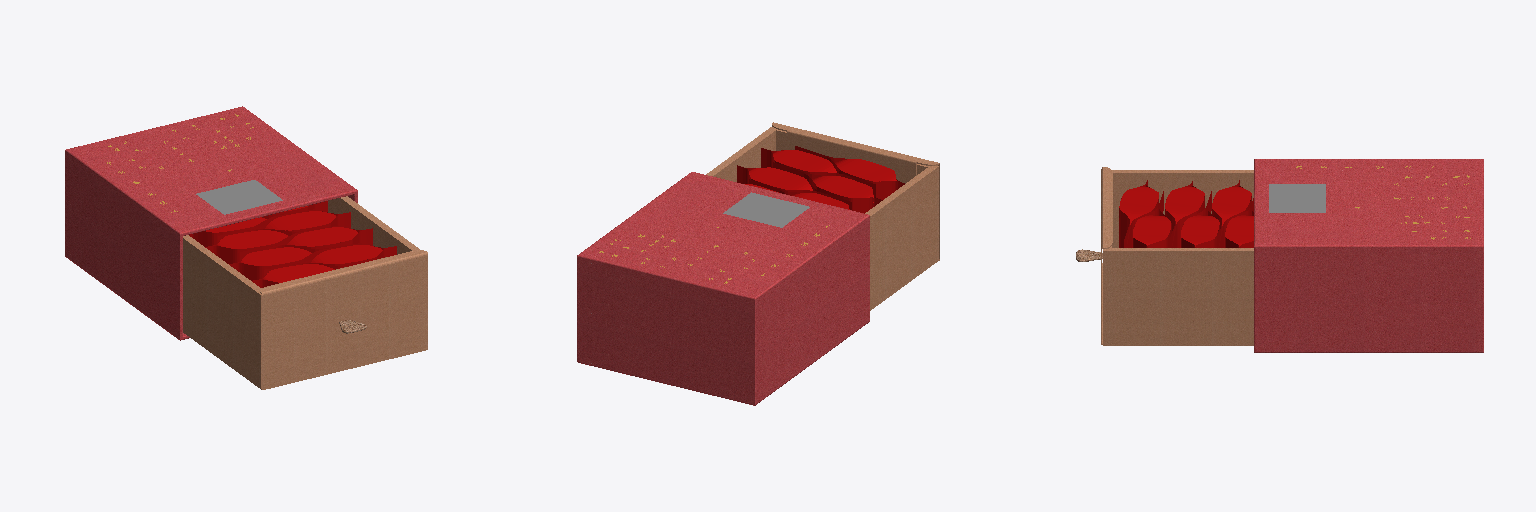
The picture shows the model from 3 angles: view 1: azimuth 30°, elevation 25°; view 2: azimuth 150°, elevation 25°; view 3: azimuth 270°, elevation 25°; orthographic projection.
Parts seen in each view (by area): view 1: DirectConnectNode_27_DC_Shell, Plane015, Rectangle003; view 2: DirectConnectNode_27_DC_Shell, Plane015, Rectangle003; view 3: DirectConnectNode_27_DC_Shell, Plane015, Rectangle003.
Boxes of the visible parts, x1=… form: DirectConnectNode_27_DC_Shell: x1=65, y1=106, x2=427, y2=389; Plane015: x1=149, y1=137, x2=333, y2=214; Rectangle003: x1=196, y1=180, x2=282, y2=214; DirectConnectNode_27_DC_Shell: x1=577, y1=122, x2=939, y2=405; Plane015: x1=630, y1=181, x2=814, y2=258; Rectangle003: x1=723, y1=192, x2=809, y2=227; DirectConnectNode_27_DC_Shell: x1=1076, y1=159, x2=1483, y2=352; Plane015: x1=1272, y1=181, x2=1407, y2=237; Rectangle003: x1=1269, y1=184, x2=1325, y2=212.
Bounding box in the file's own units: 121 × 70.16 × 239.
Materials: 8 (4 with a texture image).